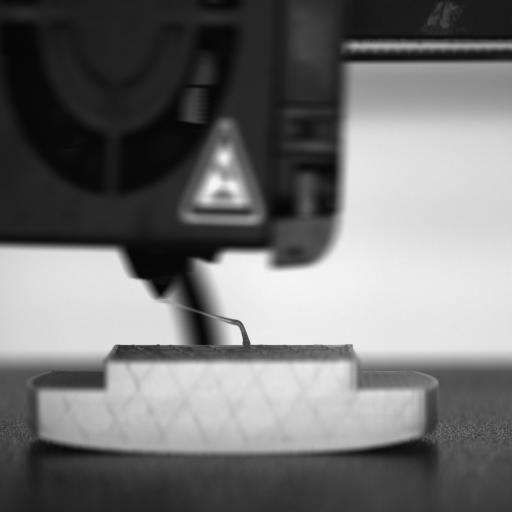warp: (30, 423, 430, 458)
